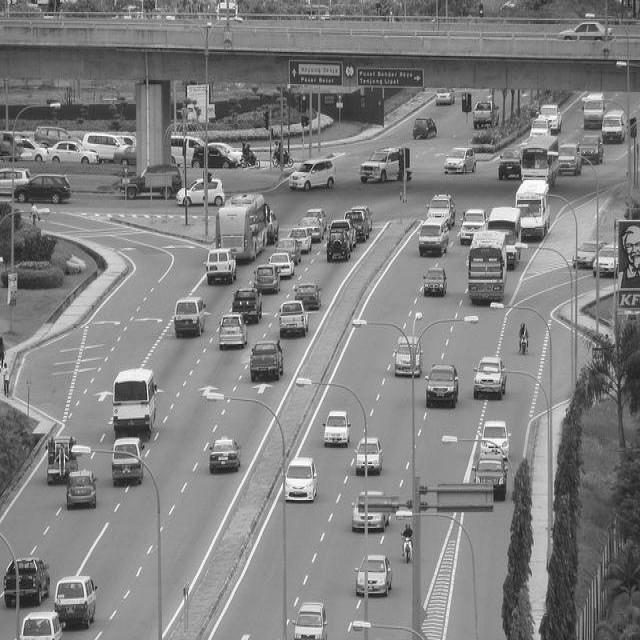vehicle: (0, 72, 626, 526), (217, 187, 267, 260), (468, 229, 508, 301), (487, 207, 529, 271), (54, 575, 98, 629), (4, 558, 52, 607), (515, 180, 549, 237), (491, 208, 524, 265), (359, 147, 410, 183), (471, 354, 509, 397), (112, 438, 144, 487), (521, 148, 560, 188), (425, 365, 459, 409), (250, 340, 284, 382), (285, 457, 317, 501), (231, 287, 264, 323), (209, 436, 241, 472), (219, 312, 249, 350), (427, 193, 457, 231), (279, 300, 309, 338), (602, 107, 629, 146), (581, 92, 607, 128), (325, 411, 351, 446), (273, 237, 301, 267), (253, 265, 281, 295), (327, 229, 351, 261), (472, 102, 499, 129), (287, 225, 313, 253), (268, 254, 294, 280), (271, 151, 293, 168), (240, 155, 261, 171), (403, 538, 412, 565), (520, 335, 528, 355)
